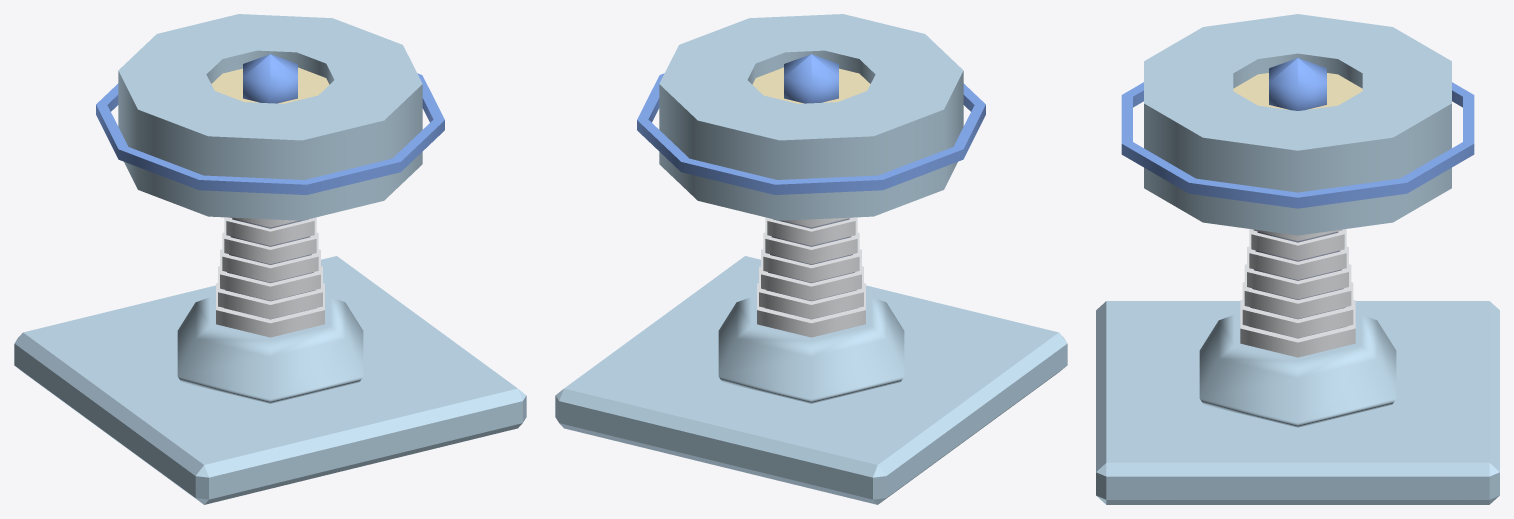
File: R4X_AreaEMP_LOD1.glb
3 renders of one model, left to right at view 1: azimuth 30°, elevation 25°; view 2: azimuth 150°, elevation 25°; view 3: azimuth 270°, elevation 25°, orthographic. The views are drawn at different scales.
Parts seen in each view (by area): view 1: R4X_AreaEMP_LOD1; view 2: R4X_AreaEMP_LOD1; view 3: R4X_AreaEMP_LOD1.
Part boxes in pixels (box(x1,y1,x2,y2)): R4X_AreaEMP_LOD1: box(14, 14, 526, 504); R4X_AreaEMP_LOD1: box(555, 14, 1067, 504); R4X_AreaEMP_LOD1: box(1096, 14, 1499, 504).
Bounding box in the file's own units: 0.52 × 0.52 × 0.52.
